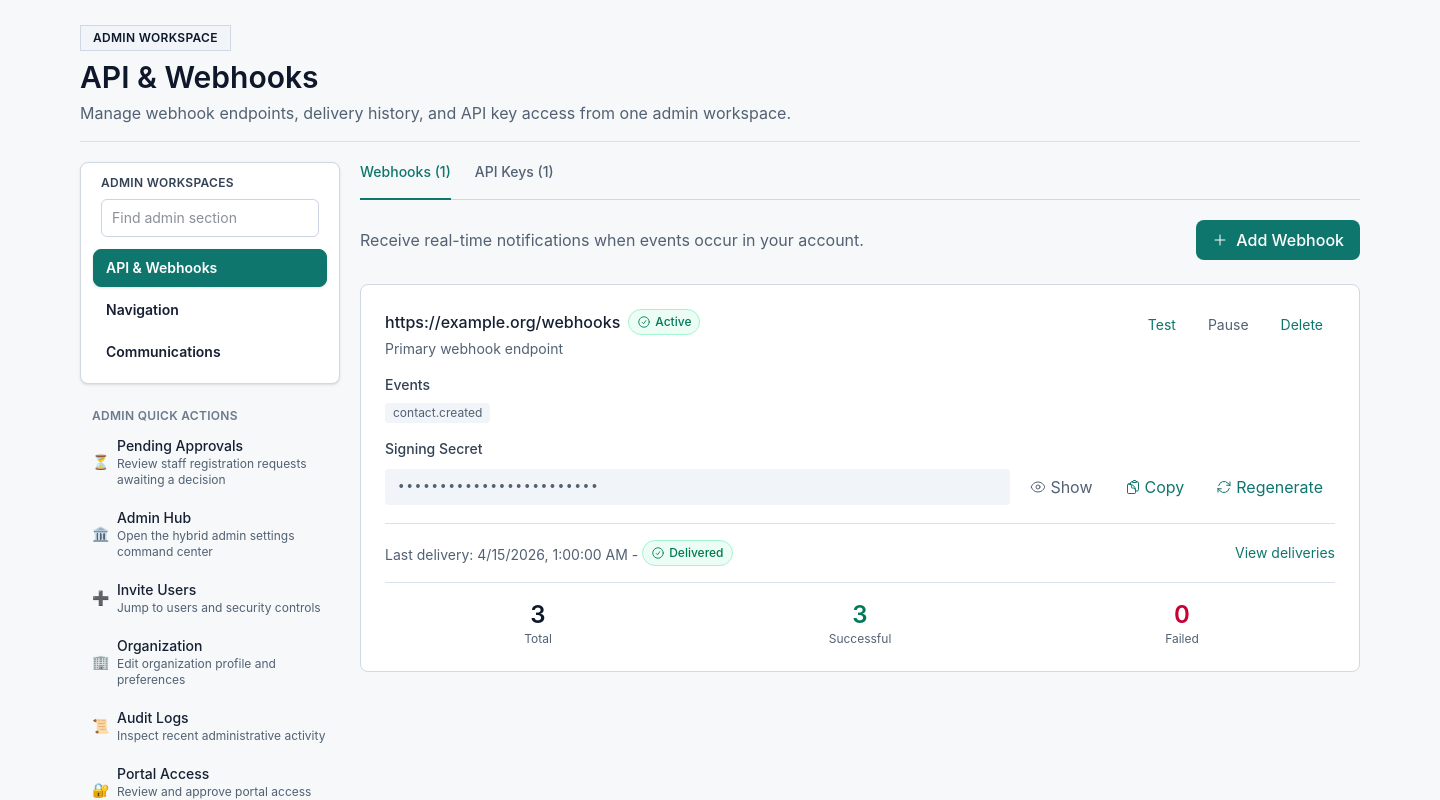
ApiSettingsPage › opens delivery history in an accessible dialog
Expected: the button "Webhooks (1)" is shown, x1=360 y1=162 x2=451 y2=200
Click the button "View deliveries". click: click(1285, 552)
box: x1=1235 y1=542 x2=1335 y2=562
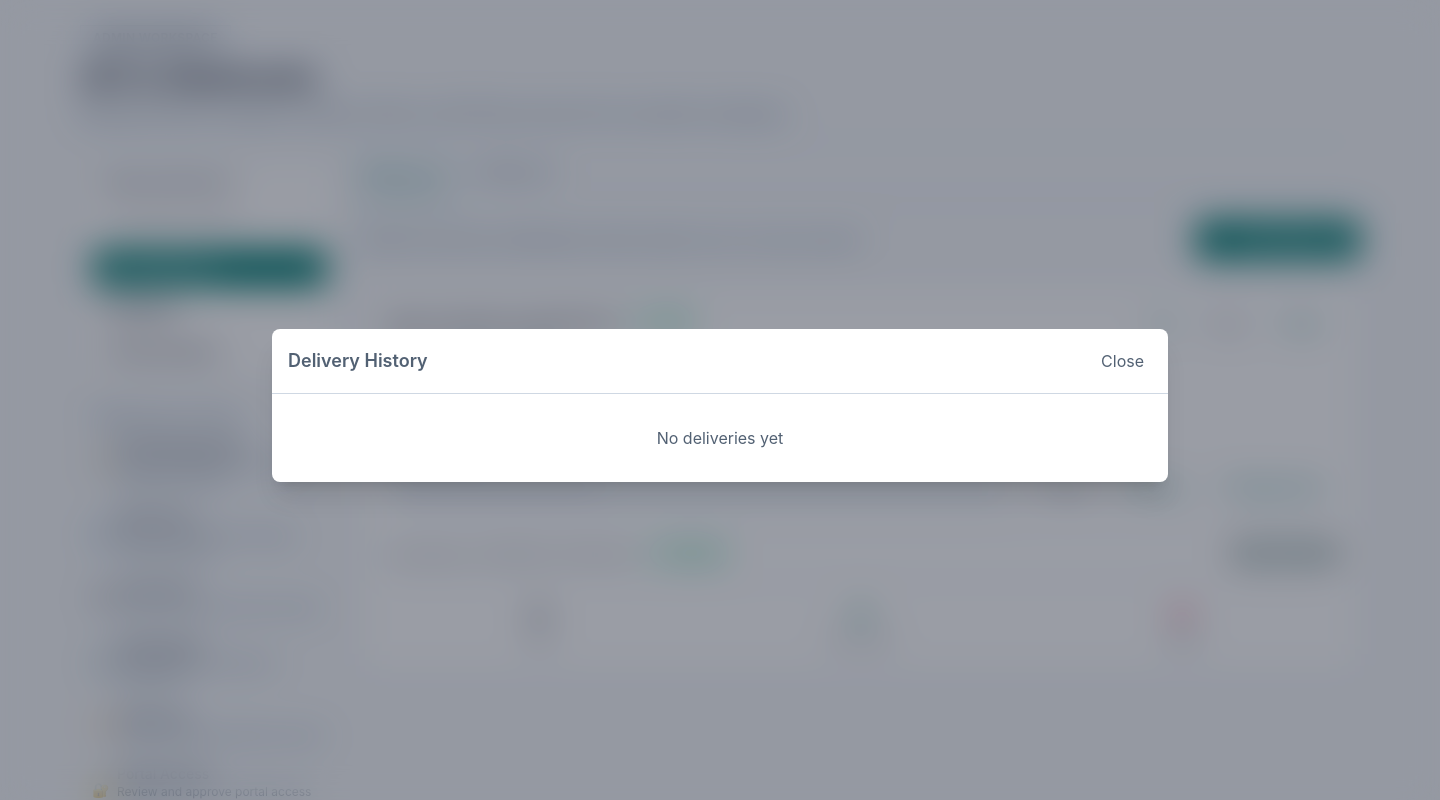
Expected: the dialog "Delivery History Close No deliveries yet" is shown, x1=272 y1=328 x2=1168 y2=482
Expected: the text "No deliveries yet" is shown, x1=657 y1=428 x2=783 y2=448
